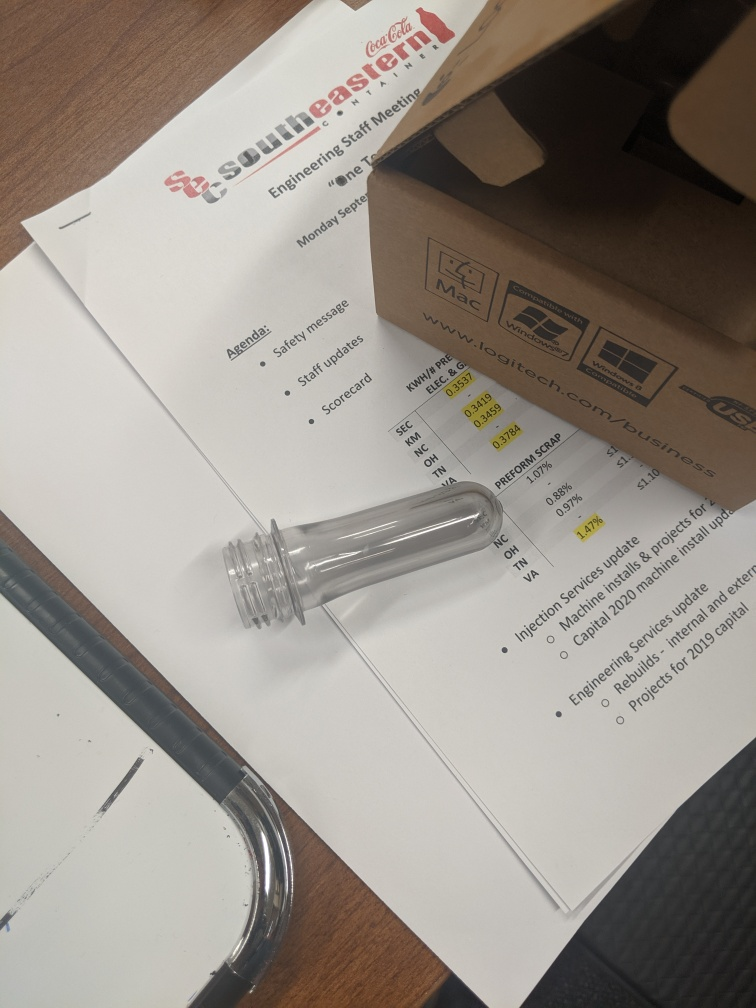preform: (213, 473, 512, 635)
